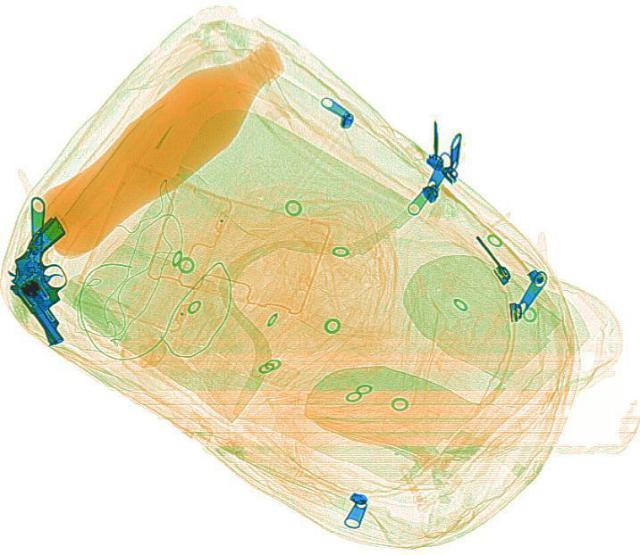Gun: (0, 220, 98, 335)
